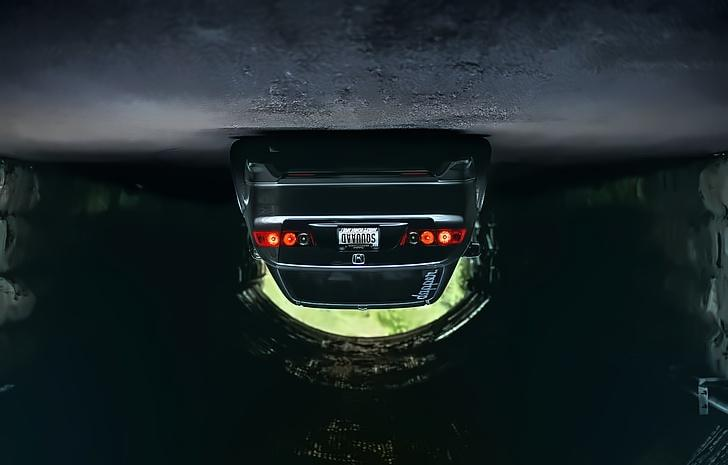Car boot: (275, 214, 441, 272)
Rear bumper: (241, 151, 489, 220)
Rear light - -L-: (398, 225, 467, 251)
Rear light - -R-: (250, 227, 318, 251)
Side mirror - -L-: (459, 238, 484, 262)
Side mirror - -R-: (248, 246, 266, 264)
